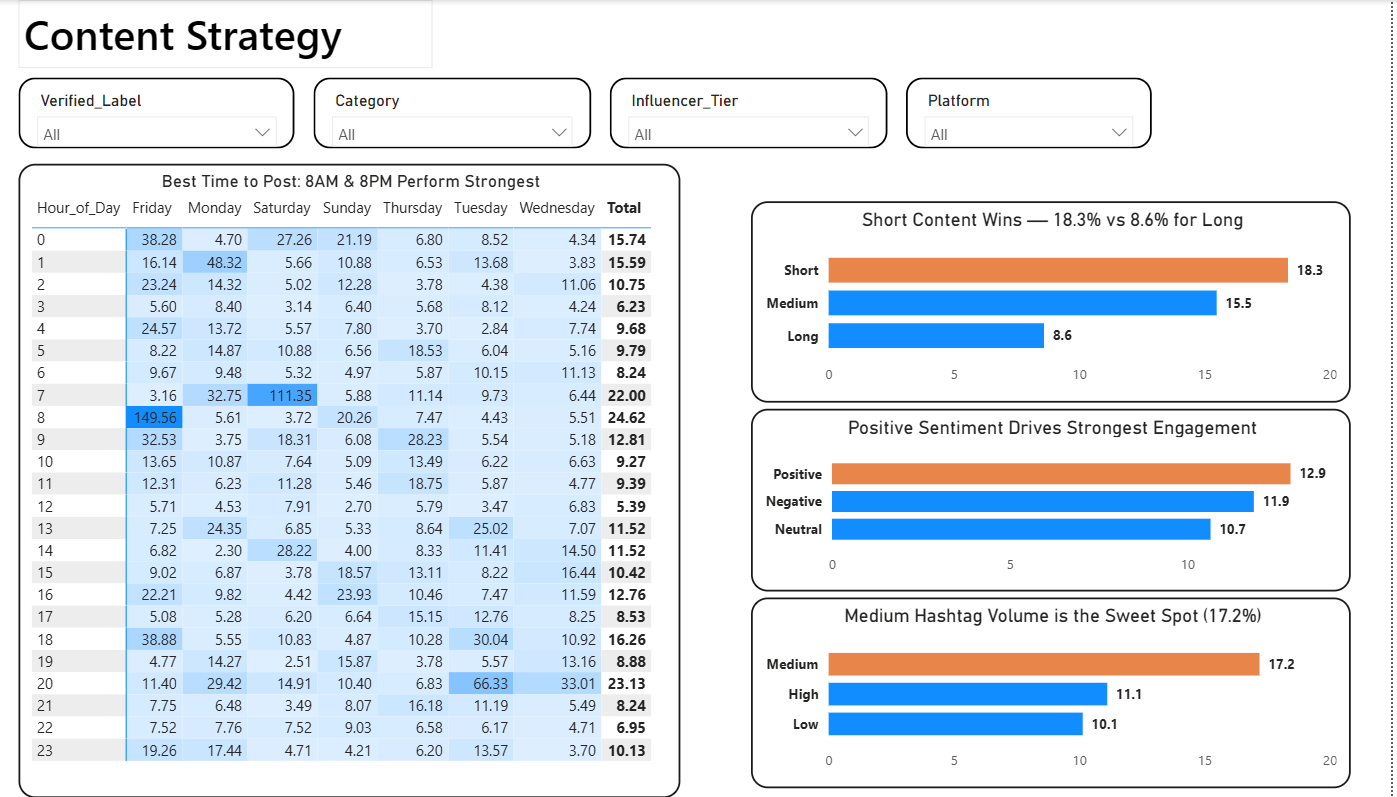

The dashboard page shown, as its layout file describes it:
{"tool":"powerbi","page":{"name":"Content Strategy","canvas":[1280,720],"ordinal":1},"visuals":[{"type":"pivotTable","title":"Best Time to Post: 8AM & 8PM Perform Strongest","fields":{"Rows":["posts.Hour_of_Day"],"Columns":["posts.Day_of_Week"],"Values":["posts.Avg Engagement Rate"]},"box":[43,147.7,596.5,572.1],"z":0},{"type":"barChart","title":"Medium Hashtag Volume is the Sweet Spot (17.2%)","fields":{"Category":["posts.Hashtag_Bucket"],"Y":["posts.Avg Engagement Rate"]},"box":[703.5,538.4,540.7,172.1],"z":1000},{"type":"barChart","title":"Short Content Wins — 18.3% vs 8.6% for Long","fields":{"Category":["posts.Content_Bucket"],"Y":["posts.Avg Engagement Rate"]},"box":[703.5,181.6,540.7,181.4],"z":2000},{"type":"barChart","title":"Positive Sentiment Drives Strongest Engagement","fields":{"Category":["posts.Sentiment"],"Y":["posts.Avg Engagement Rate"]},"box":[703.5,368.3,540.7,165.1],"z":3000},{"type":"textbox","box":[43,0,373.3,61.6],"z":4000},{"type":"slicer","fields":{"Values":["posts.Platform"]},"box":[842.9,70.4,221.2,64],"z":5000},{"type":"slicer","fields":{"Values":["posts.Category"]},"box":[308.6,70.4,250.5,64],"z":6000},{"type":"slicer","fields":{"Values":["posts.Influencer_Tier"]},"box":[575.7,70.4,250.5,64],"z":7000},{"type":"slicer","fields":{"Values":["posts.Verified_Label"]},"box":[42.8,70.4,249.1,64],"z":8000}]}

Visuals, with their boxes in screenshot pixels (x1, y1, x2, y2), scaled from the page's 1280x720 canvas onto the 1397x797 screenshot:
"Best Time to Post: 8AM & 8PM Perform Strongest" pivotTable: 47:163:698:796
"Medium Hashtag Volume is the Sweet Spot (17.2%)" barChart: 768:596:1358:786
"Short Content Wins — 18.3% vs 8.6% for Long" barChart: 768:201:1358:402
"Positive Sentiment Drives Strongest Engagement" barChart: 768:408:1358:590
textbox: 47:0:454:68
slicer - posts.Platform: 920:78:1161:149
slicer - posts.Category: 337:78:610:149
slicer - posts.Influencer_Tier: 628:78:902:149
slicer - posts.Verified_Label: 47:78:319:149
